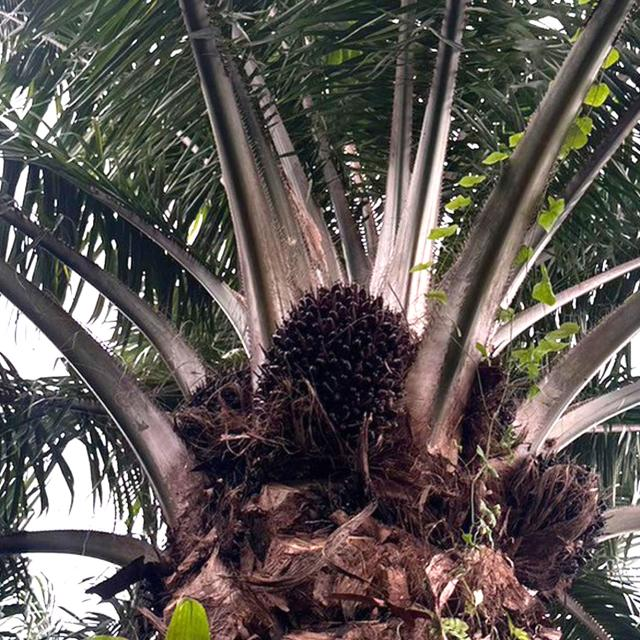ripe: (266, 278, 411, 457)
